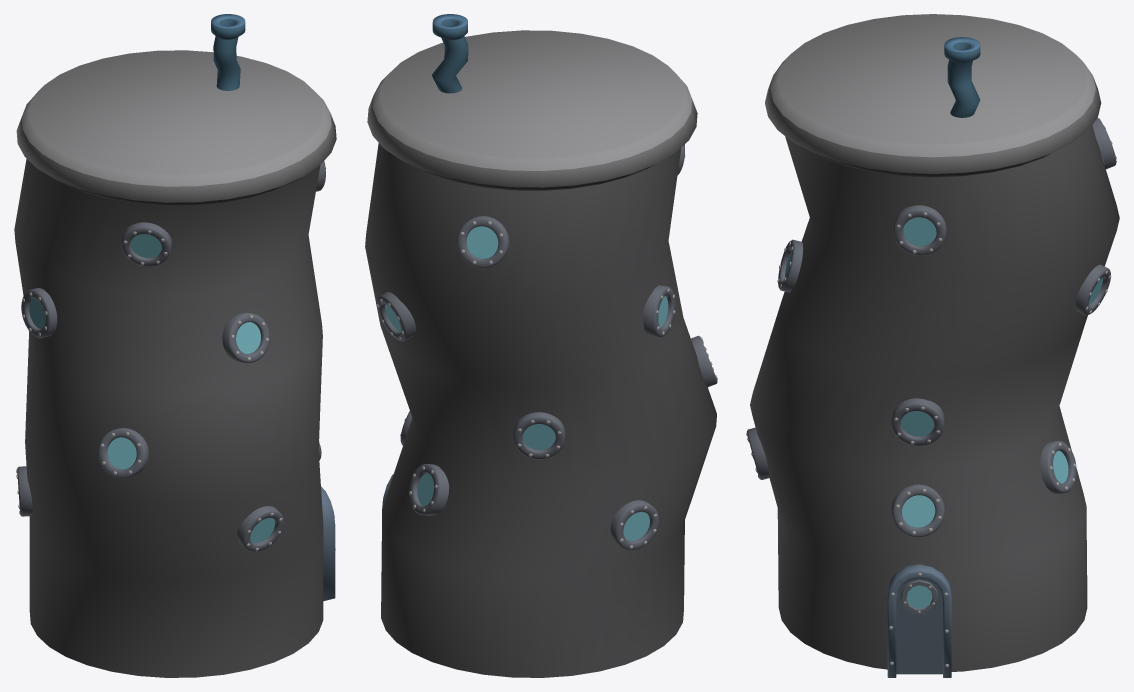
Rendered from building6.fbx.
3 views of the same model, side by side, from view 1: azimuth 30°, elevation 25°; view 2: azimuth 150°, elevation 25°; view 3: azimuth 270°, elevation 25° (orthographic). The views are drawn at different scales.
Parts seen in each view (by area): view 1: sb_bb_b3; view 2: sb_bb_b3; view 3: sb_bb_b3.
Boxes of the visible parts, bbox=[...] form: sb_bb_b3: bbox=[14, 14, 336, 677]; sb_bb_b3: bbox=[365, 14, 717, 677]; sb_bb_b3: bbox=[746, 14, 1119, 677].
Bounding box in the file's own units: 223 × 426 × 242.
Materials: 1 (1 with a texture image).
